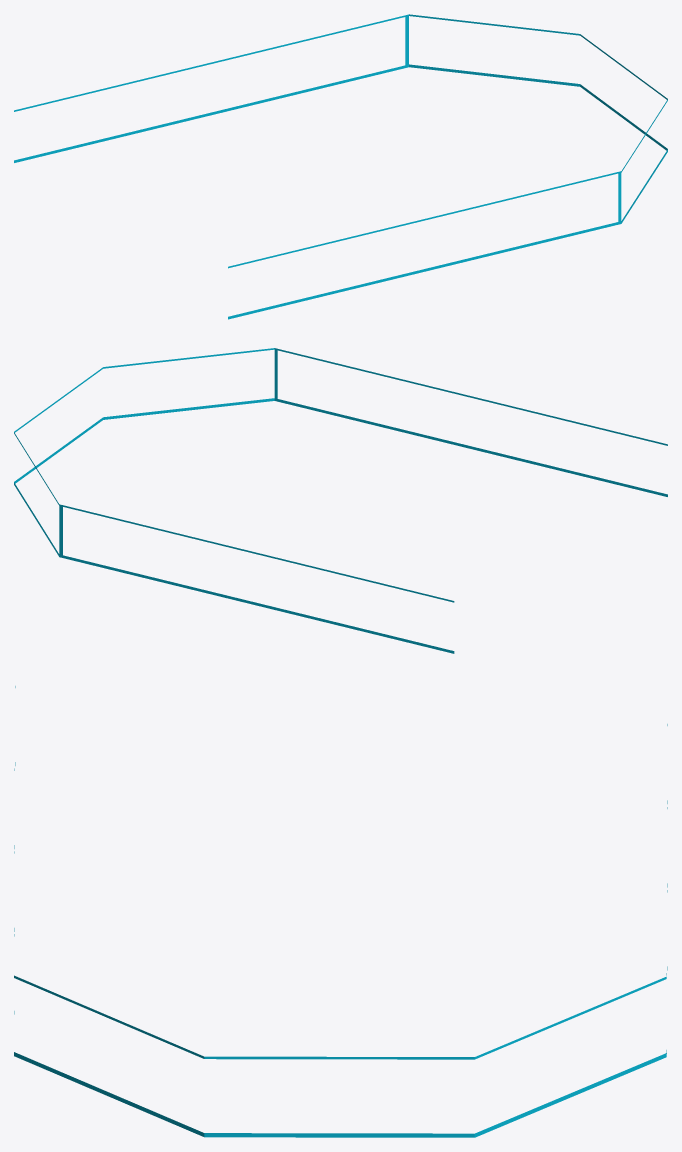
The model's file is 24_Glow_Realsize.FBX.
3 views of the same model, one above another, from view 1: azimuth 30°, elevation 25°; view 2: azimuth 150°, elevation 25°; view 3: azimuth 270°, elevation 25° (orthographic). The views are drawn at different scales.
Parts seen in each view (by area): view 1: 24_Glow; view 2: 24_Glow; view 3: 24_Glow.
Boxes of the visible parts, x1,y1,x2,y2 form: 24_Glow: [14, 14, 667, 319]; 24_Glow: [14, 348, 667, 653]; 24_Glow: [14, 686, 667, 1137].
Bounding box in the file's own units: 839 × 84.24 × 619.
